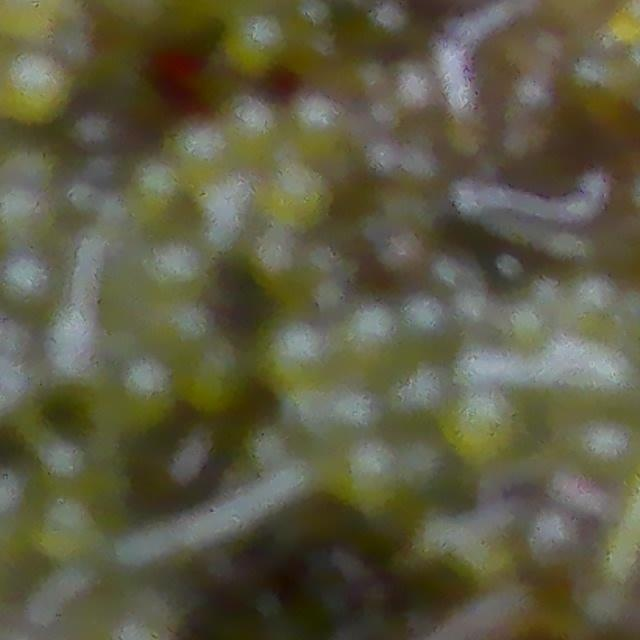SeaGrape: (506, 503, 610, 588), (0, 56, 72, 125), (447, 395, 516, 466), (285, 92, 355, 161), (220, 95, 287, 161), (264, 162, 330, 229), (163, 118, 235, 178), (264, 323, 322, 395), (117, 149, 179, 205), (508, 85, 567, 142), (384, 233, 433, 278), (402, 151, 442, 192)
